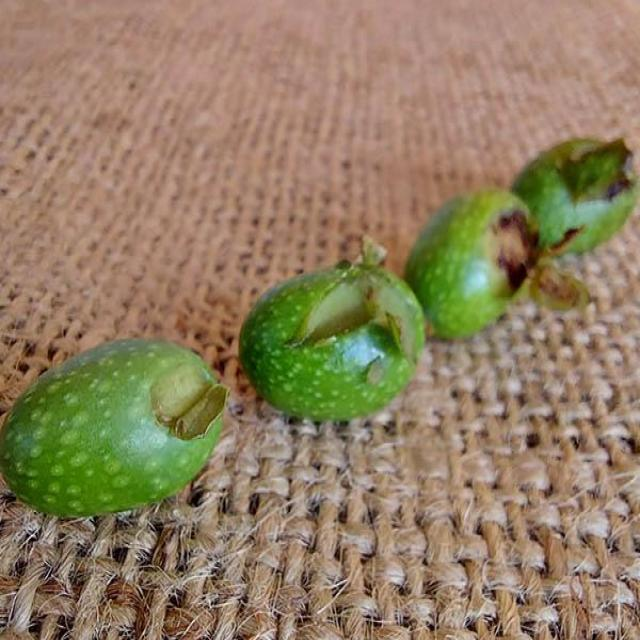Anthracnose: (0, 339, 228, 516), (238, 262, 424, 418), (404, 190, 588, 338), (511, 137, 639, 255)
